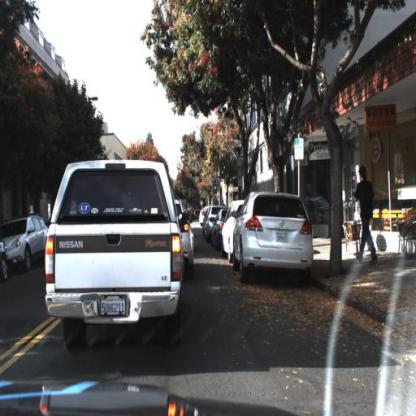car: (45, 162, 180, 354), (235, 193, 312, 281), (8, 215, 45, 278), (223, 201, 238, 261), (1, 233, 12, 280)
pedestrian: (353, 159, 378, 270)
trafficLight-Green: (214, 179, 219, 193)
